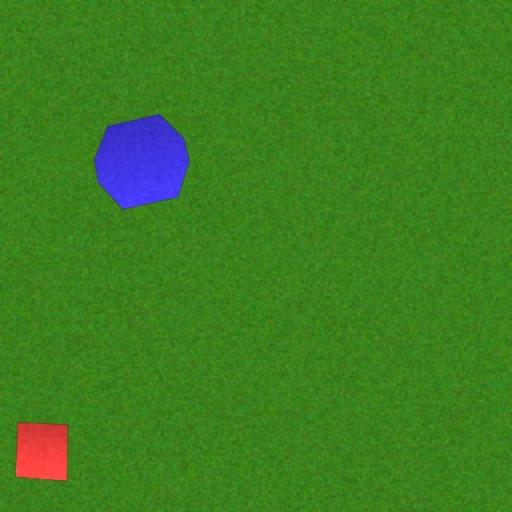RED_SQUARE: (15, 422, 69, 482)
